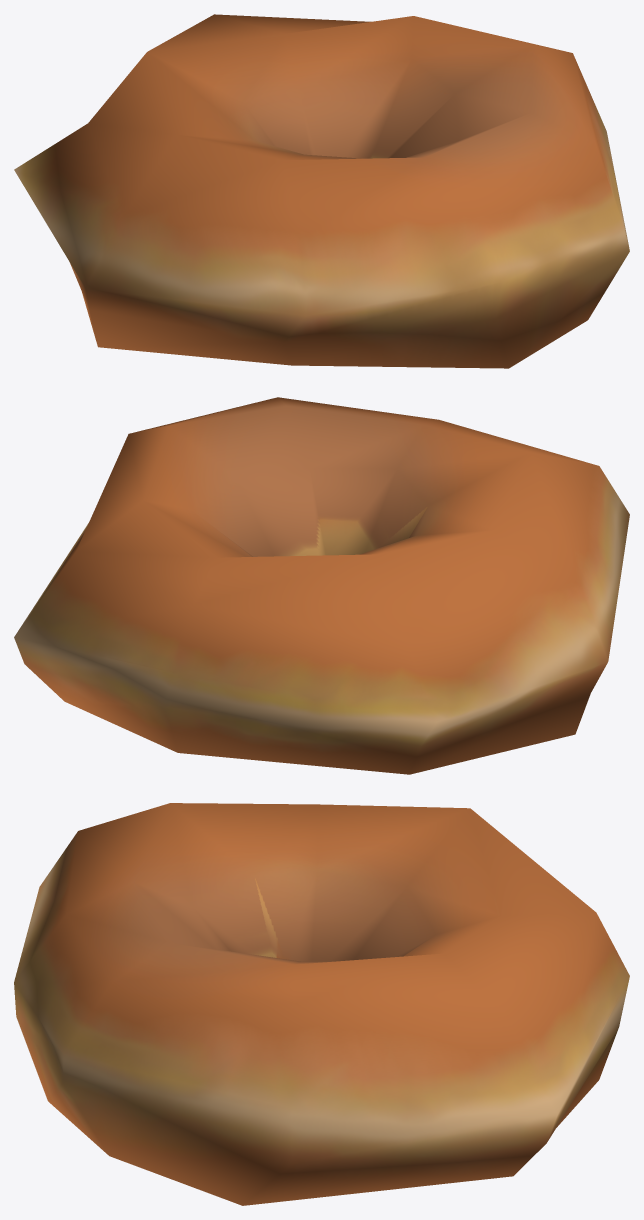
Rendered from GlazedDonut.glb.
The picture shows the model from 3 angles, top to bottom: view 1: azimuth 30°, elevation 25°; view 2: azimuth 150°, elevation 25°; view 3: azimuth 270°, elevation 25°; orthographic projection. The views are drawn at different scales.
Visible parts, largest first — view 1: Glazed; view 2: Glazed; view 3: Glazed.
Part boxes in pixels (x1=…): Glazed: x1=14, y1=14, x2=629, y2=368; Glazed: x1=14, y1=397, x2=629, y2=774; Glazed: x1=14, y1=803, x2=629, y2=1205.
Bounding box in the file's own units: 0.5582 × 0.2469 × 0.5514.
1 material, 1 textured.
